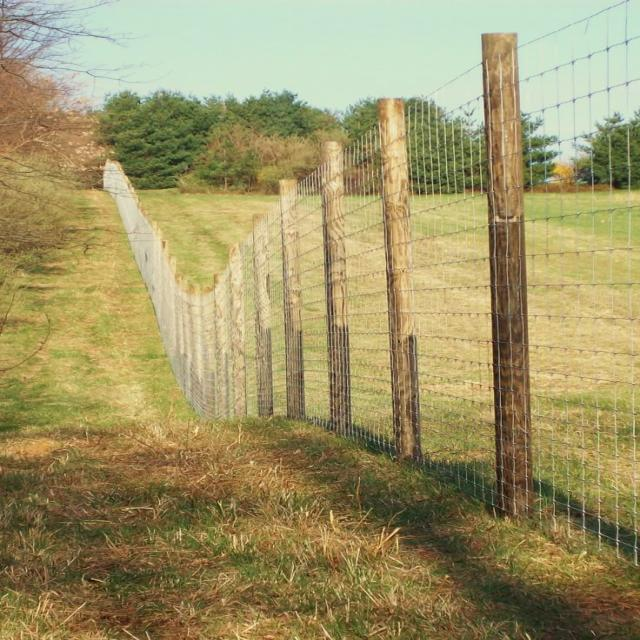fence: (180, 2, 639, 582)
